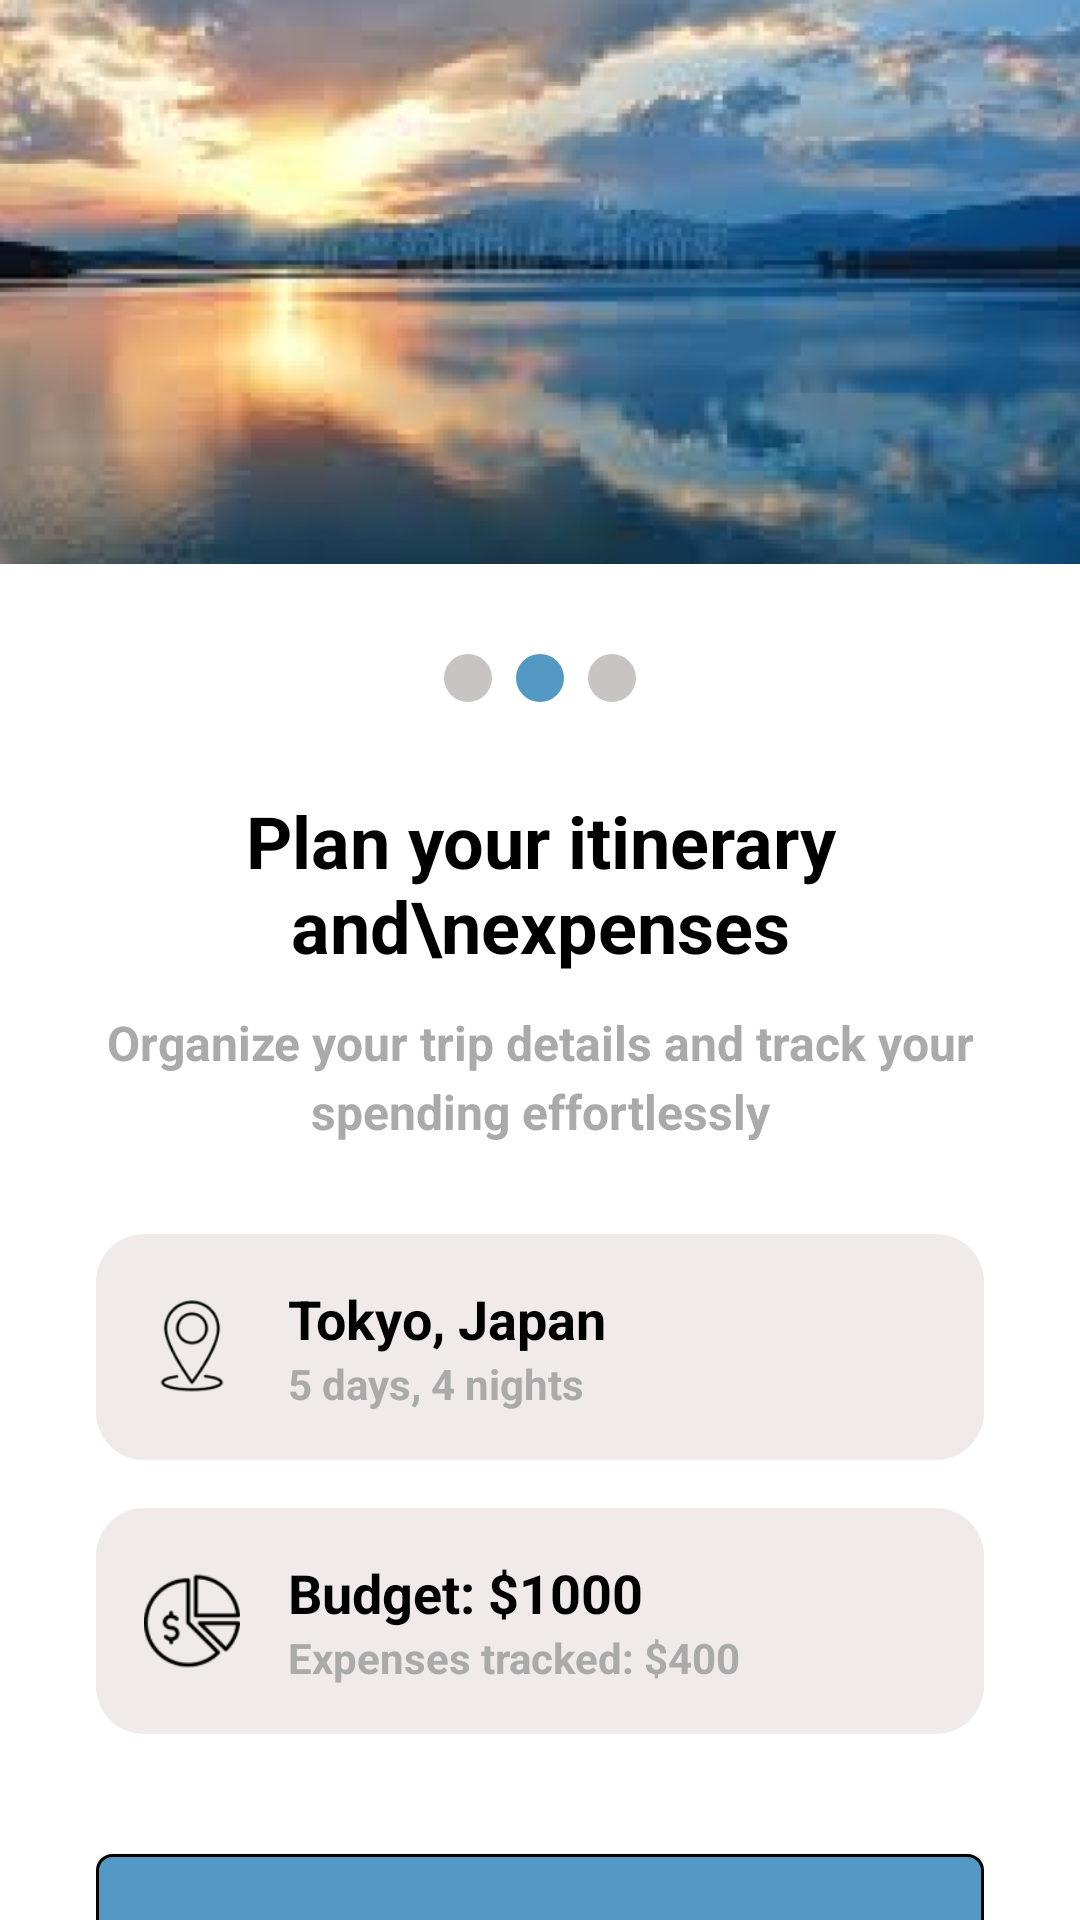

Locate icon controls on the screen. Image size 1080w x 1920h, boxes as (x1, y1, x2, y2).
dot: (444, 654, 492, 702), (516, 654, 564, 702), (588, 654, 636, 702)
